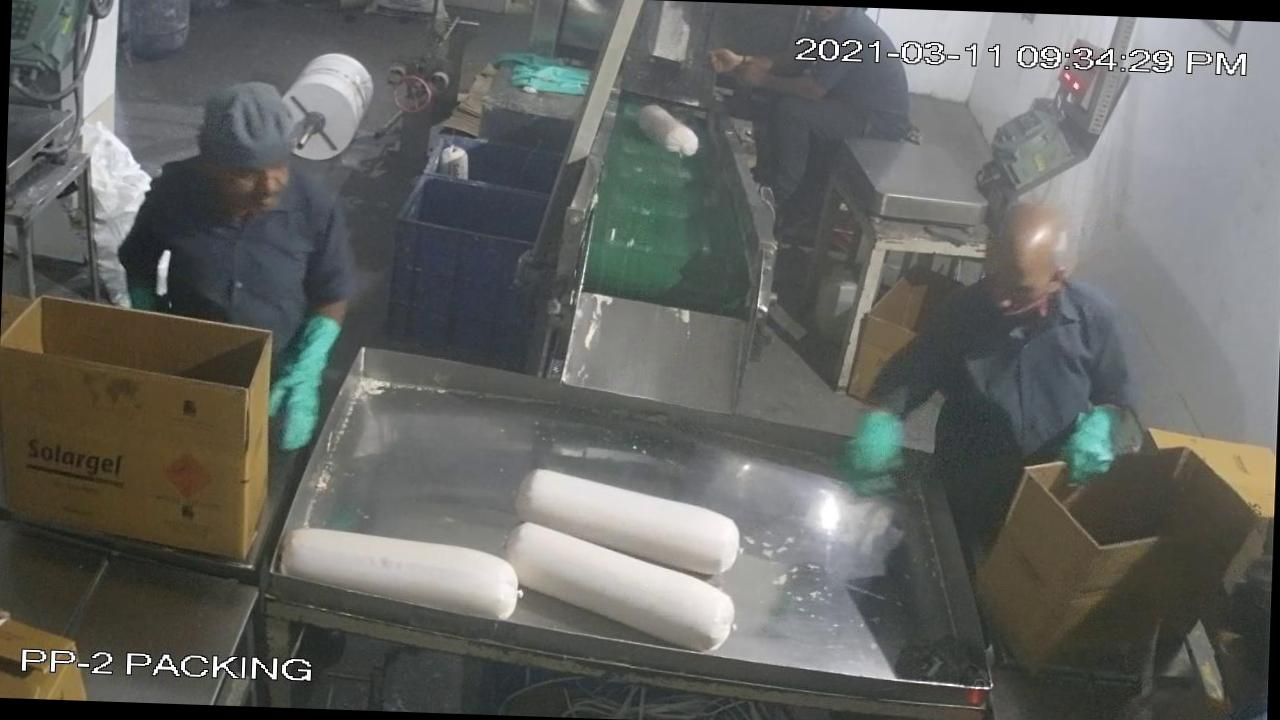Gloves: (261, 293, 358, 480)
No-gloves: (712, 54, 841, 114)
